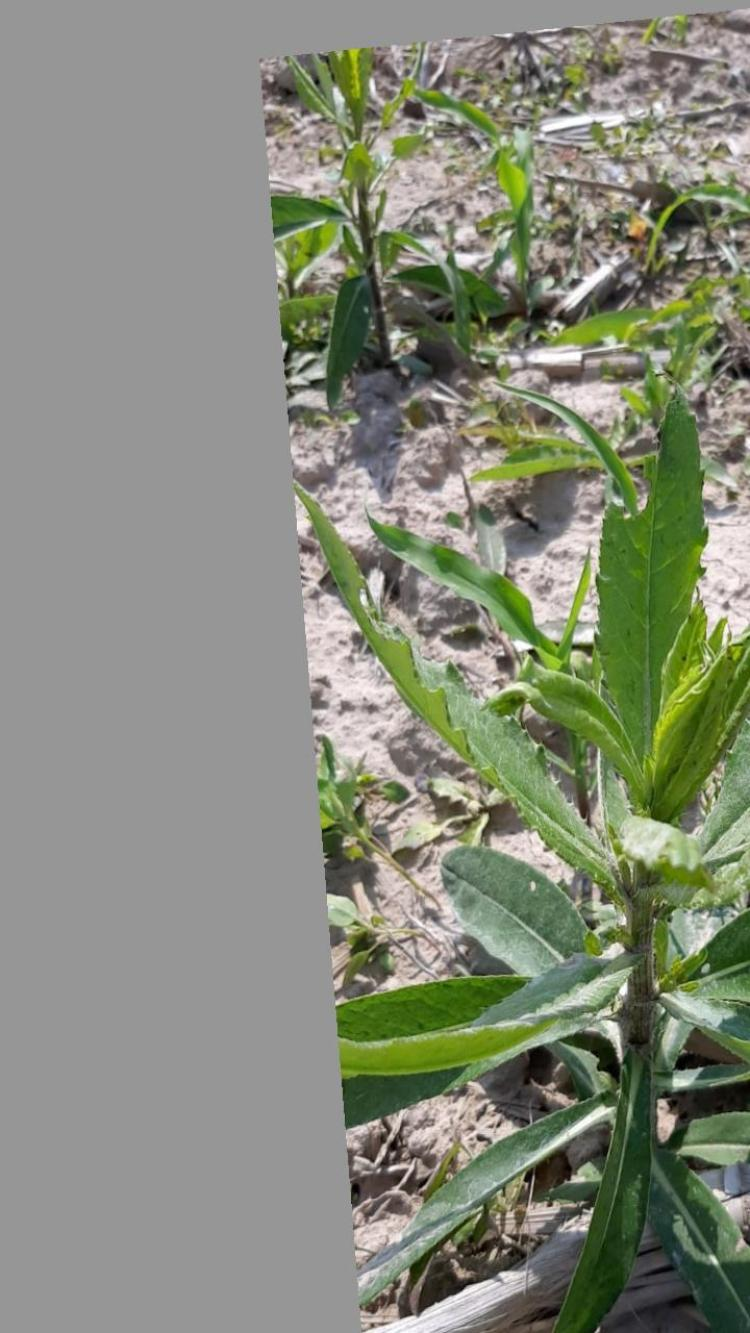osot: (296, 384, 750, 1318)
